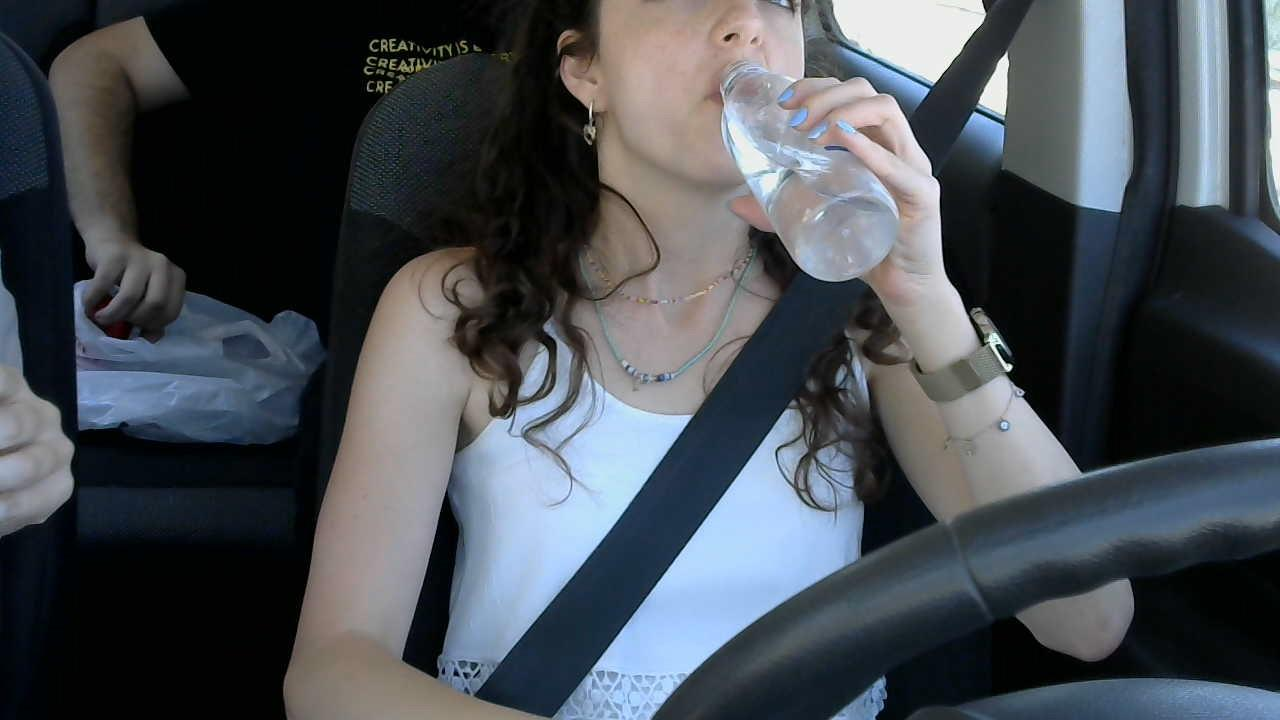Drinking: (720, 58, 905, 285)
